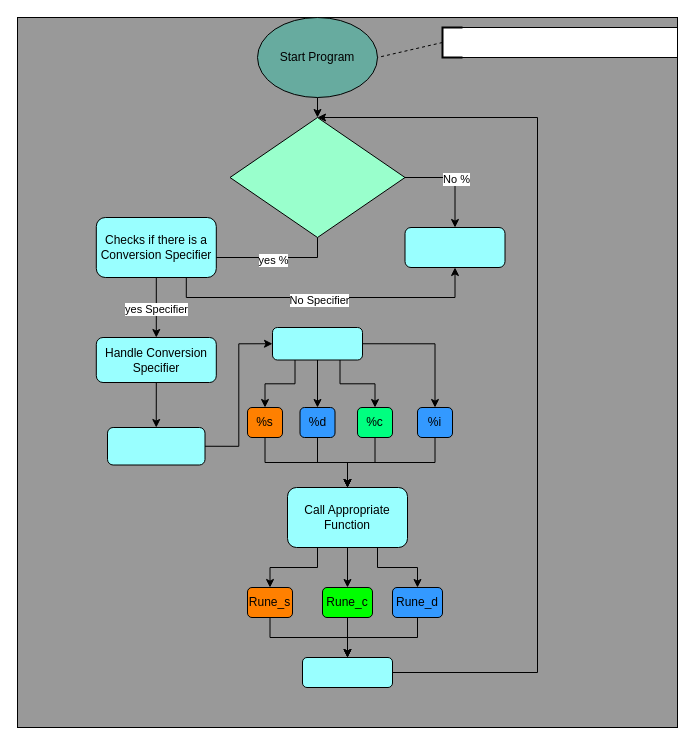
This 695x745 diagram has some shape labels left out. Here are the shapes that lost their labels. From the top down, the centre of each, then its label:
pixel 452 42: Prototype: int _printf(const char *format, ...);
pixel 317 177: Parse Format String for '%'
pixel 454 247: Print Text
pixel 317 343: Is Specifier
pixel 155 445: Get Specifier
pixel 347 672: Print Argument
